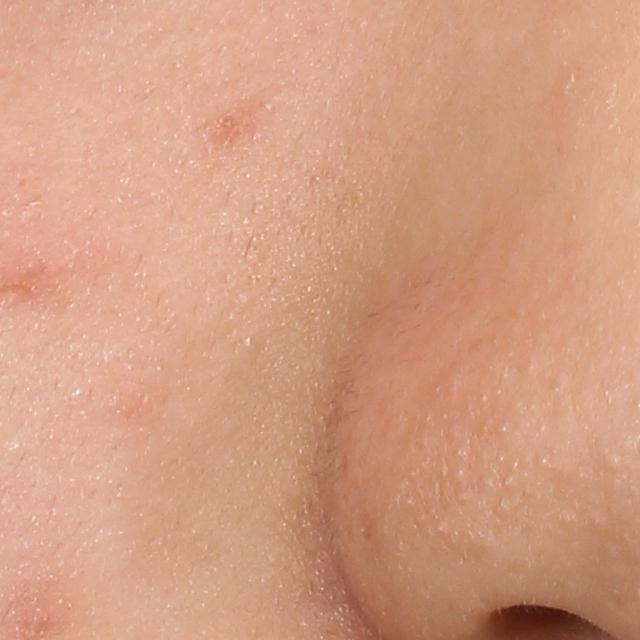comedo: (595, 447, 624, 475), (472, 467, 498, 497), (493, 495, 513, 524), (561, 509, 581, 534), (449, 487, 471, 506), (534, 449, 550, 474), (494, 419, 512, 436)
